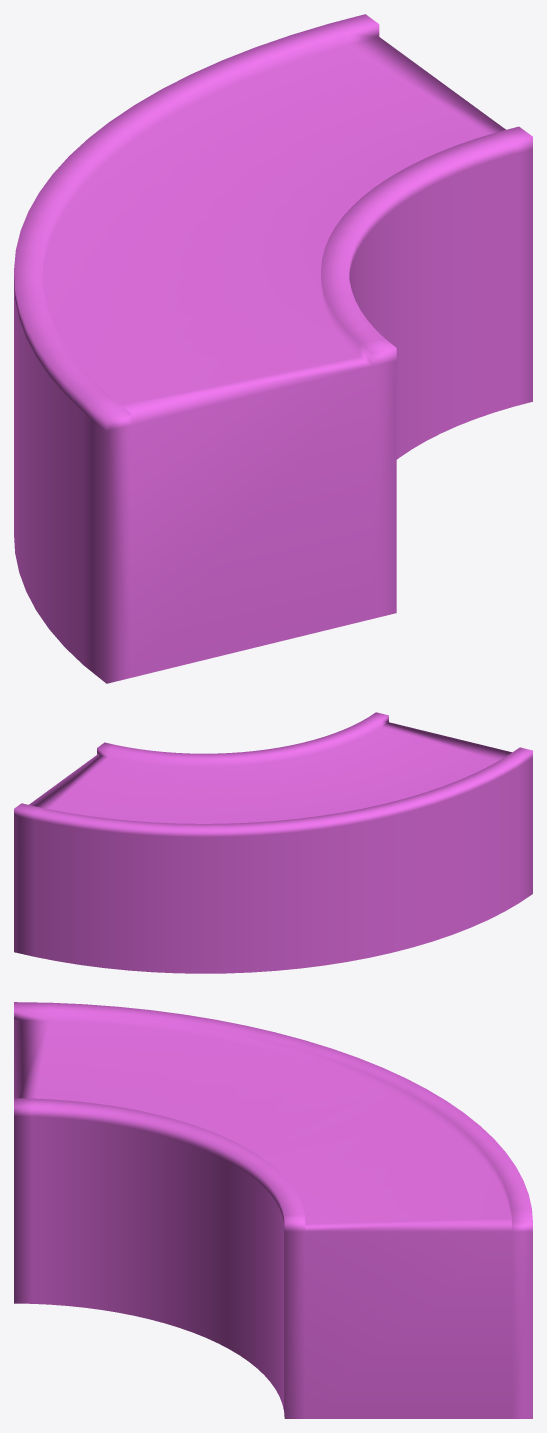
The picture shows the model from 3 angles, top to bottom: view 1: azimuth 30°, elevation 25°; view 2: azimuth 150°, elevation 25°; view 3: azimuth 270°, elevation 25°; orthographic projection. The views are drawn at different scales.
Parts seen in each view (by area): view 1: Mesh; view 2: Mesh; view 3: Mesh.
Boxes of the visible parts, left/top/right/bottom form: Mesh: left=14, top=14, right=532, bottom=683; Mesh: left=14, top=712, right=532, bottom=973; Mesh: left=14, top=1002, right=532, bottom=1418.
Size of the model in its own units: 1007 by 419 by 1003.
